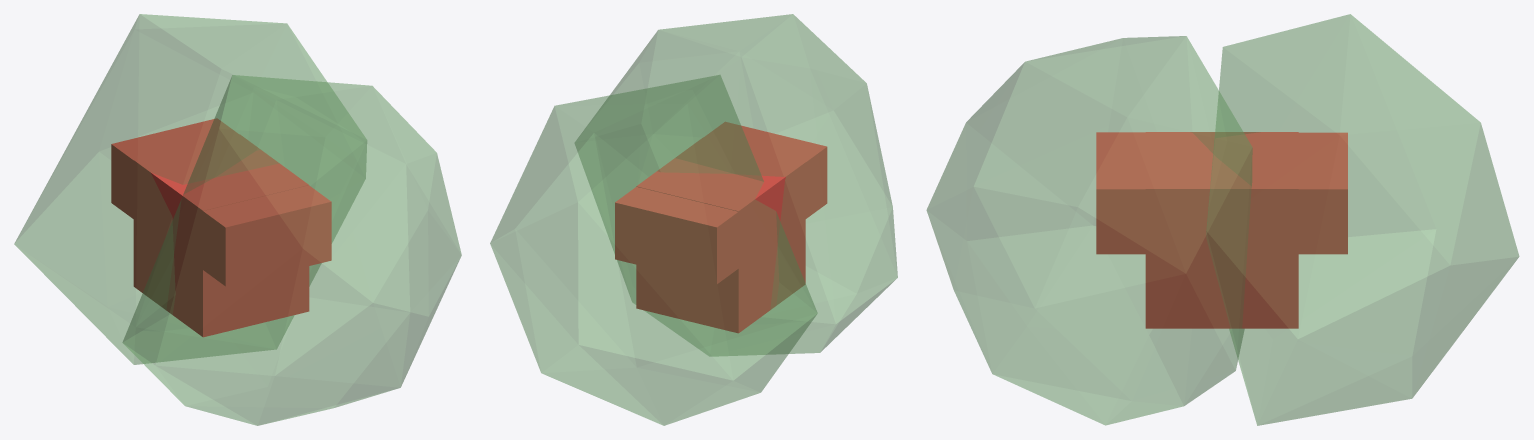
File: hrp2_trunk_torso_arms_view.dae
3 views of the same model, side by side, from view 1: azimuth 30°, elevation 25°; view 2: azimuth 150°, elevation 25°; view 3: azimuth 270°, elevation 25° (orthographic). The views are drawn at different scales.
Parts seen in each view (by area): view 1: Hrp2_Rarm_Rom, Hrp2_Larm_Rom, Hrp2_Trunk_Torso; view 2: Hrp2_Larm_Rom, Hrp2_Rarm_Rom, Hrp2_Trunk_Torso; view 3: Hrp2_Rarm_Rom, Hrp2_Larm_Rom, Hrp2_Trunk_Torso.
Boxes of the visible parts, x1,y1,x2,y2 form: Hrp2_Rarm_Rom: (122,75,461,425); Hrp2_Larm_Rom: (14,14,366,364); Hrp2_Trunk_Torso: (111,118,331,337); Hrp2_Larm_Rom: (490,75,817,425); Hrp2_Rarm_Rom: (575,14,897,356); Hrp2_Trunk_Torso: (615,122,827,333); Hrp2_Rarm_Rom: (926,36,1252,425); Hrp2_Larm_Rom: (1206,14,1519,425); Hrp2_Trunk_Torso: (1096,132,1347,328).
Bounding box in the file's own units: 1.08 × 1.66 × 1.13.
